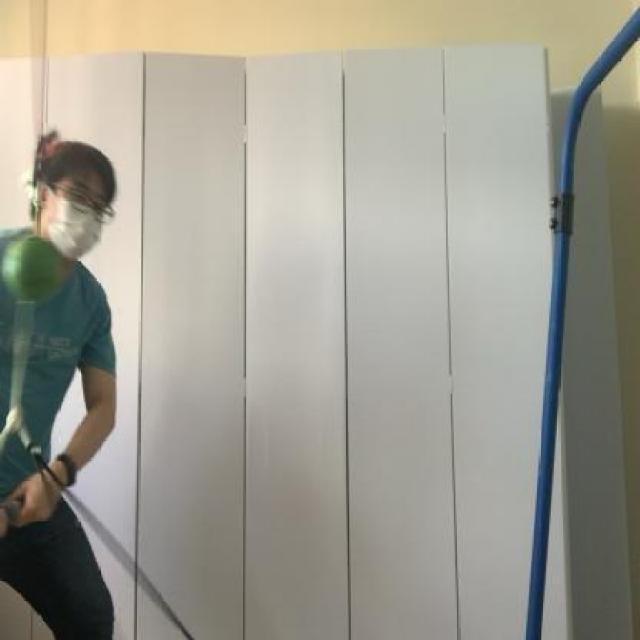baseball: (0, 231, 77, 318)
